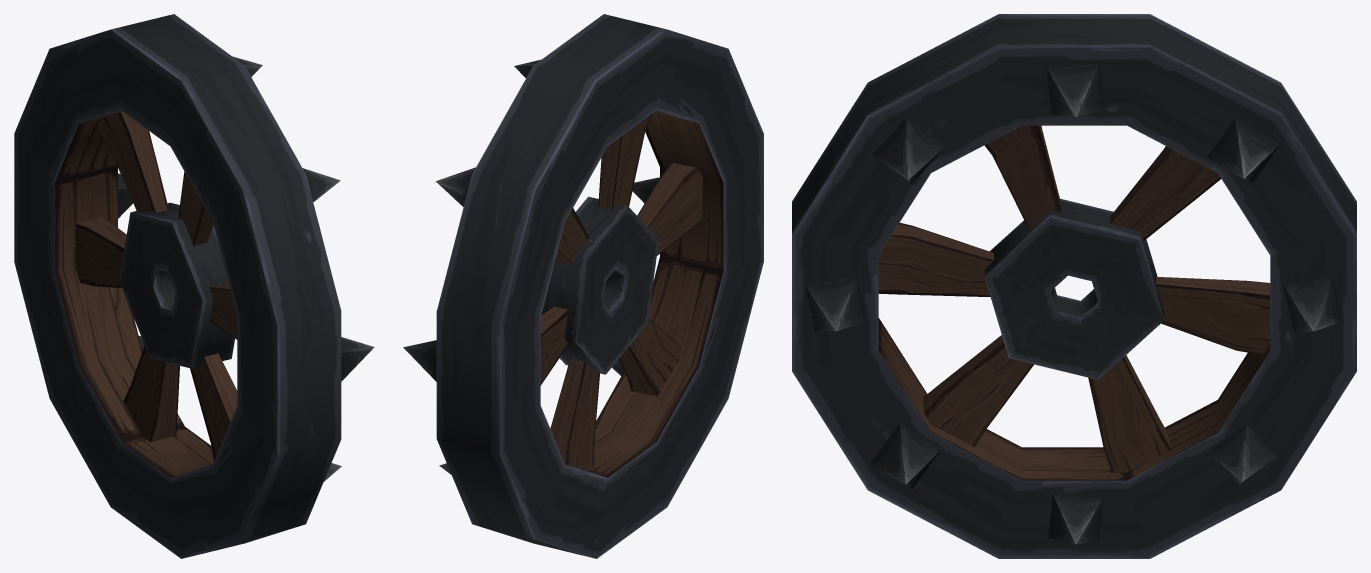
File: SM_PROP_wheel_battle_01.fbx
3 views of the same model, side by side, from view 1: azimuth 30°, elevation 25°; view 2: azimuth 150°, elevation 25°; view 3: azimuth 270°, elevation 25° (orthographic). The views are drawn at different scales.
Visible parts, largest first — view 1: SM_PROP_wheel_battle_01; view 2: SM_PROP_wheel_battle_01; view 3: SM_PROP_wheel_battle_01.
Part boxes in pixels (x1=…): SM_PROP_wheel_battle_01: x1=14, y1=14, x2=374, y2=558; SM_PROP_wheel_battle_01: x1=403, y1=14, x2=763, y2=558; SM_PROP_wheel_battle_01: x1=792, y1=14, x2=1356, y2=558.
Bounding box in the file's own units: 26.52 × 103 × 103.
